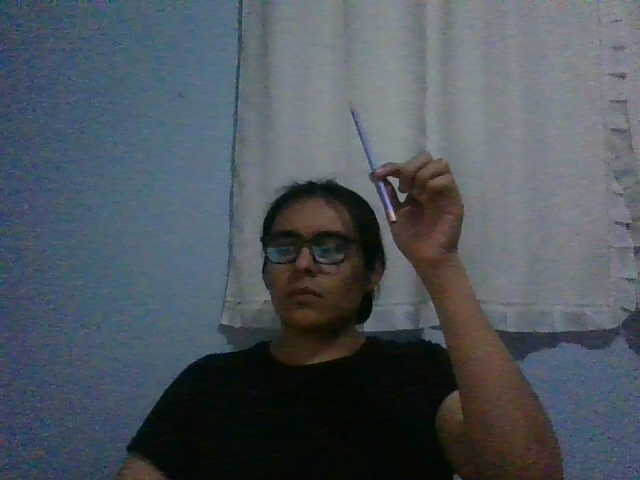lapiz: (349, 101, 397, 224)
